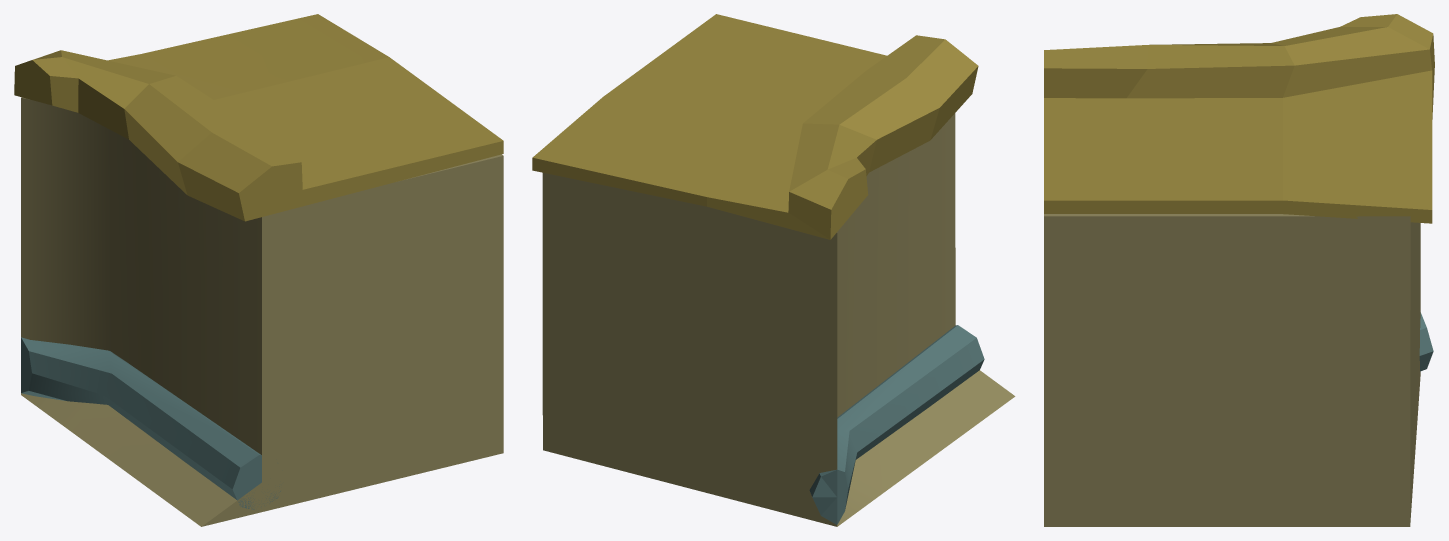
File: Int_12_Wall_Cross_Centerr_Up__20.fbx
3 views of the same model, side by side, from view 1: azimuth 30°, elevation 25°; view 2: azimuth 150°, elevation 25°; view 3: azimuth 270°, elevation 25° (orthographic). The views are drawn at different scales.
Parts seen in each view (by area): view 1: Int_12_Wall_Cross_Centerr_Up__20; view 2: Int_12_Wall_Cross_Centerr_Up__20; view 3: Int_12_Wall_Cross_Centerr_Up__20.
Boxes of the visible parts, x1=… form: Int_12_Wall_Cross_Centerr_Up__20: x1=14, y1=14, x2=503, y2=526; Int_12_Wall_Cross_Centerr_Up__20: x1=532, y1=14, x2=1015, y2=526; Int_12_Wall_Cross_Centerr_Up__20: x1=1044, y1=14, x2=1434, y2=526.
Size of the model in its own units: 0.9944 by 1.08 by 1.07.
